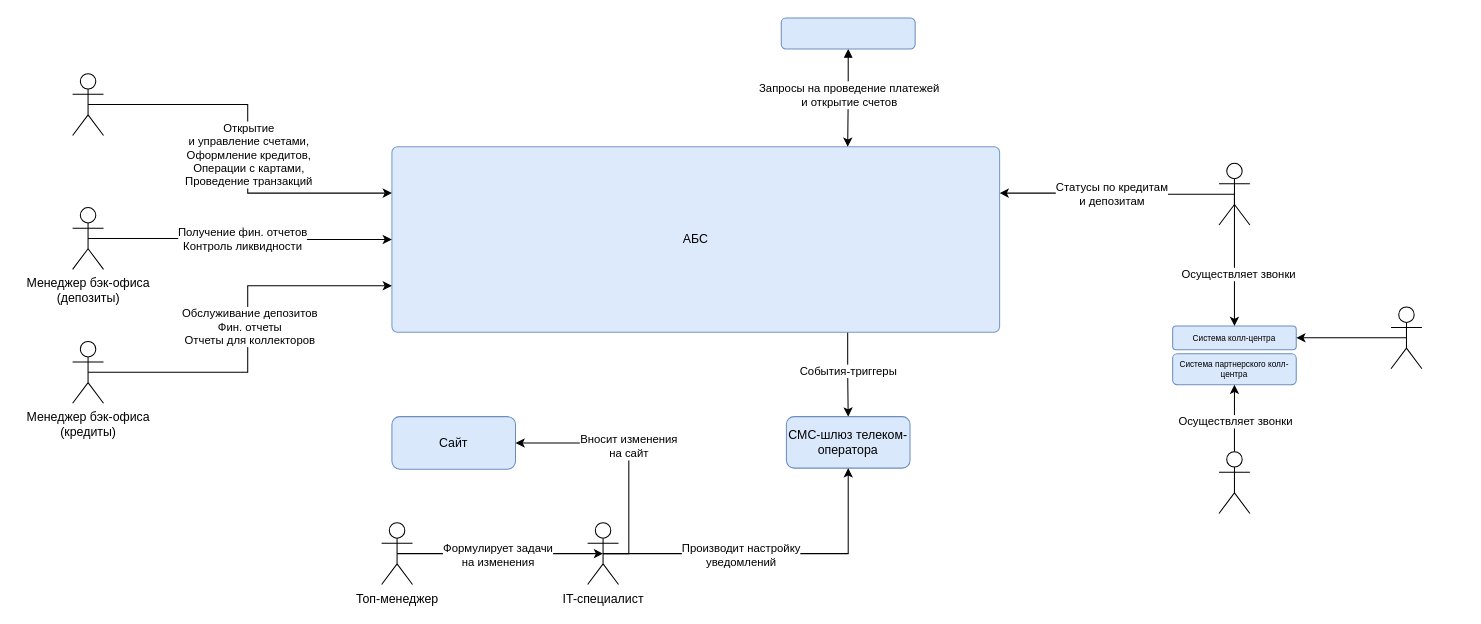
This 1481x624 diagram has some shape labels left out. Each missing label, with the centre of its shape:
Интернет-банк: the point at 847,33
Менеджер фронт-офиса: the point at 88,104
Оператор колл-центра: the point at 1234,193
Оператор партнерского колл-центра: the point at 1234,482
Сотрудник команды сопровождения (подрядчик): the point at 1406,337
